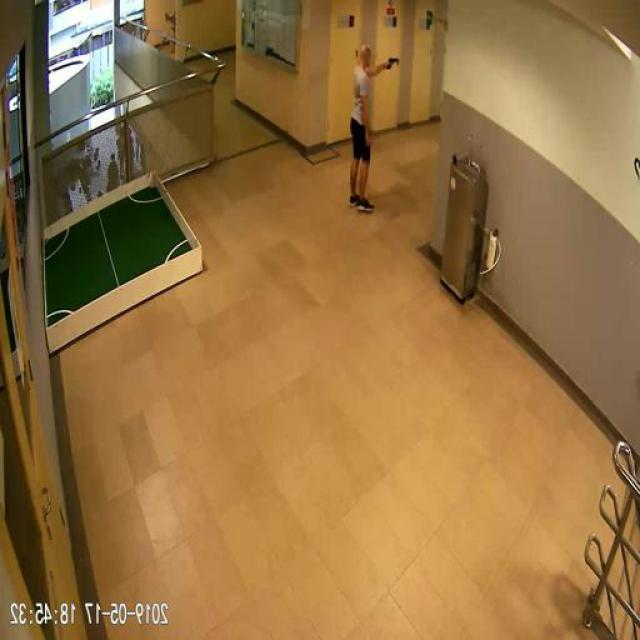Gun: (389, 55, 400, 69)
